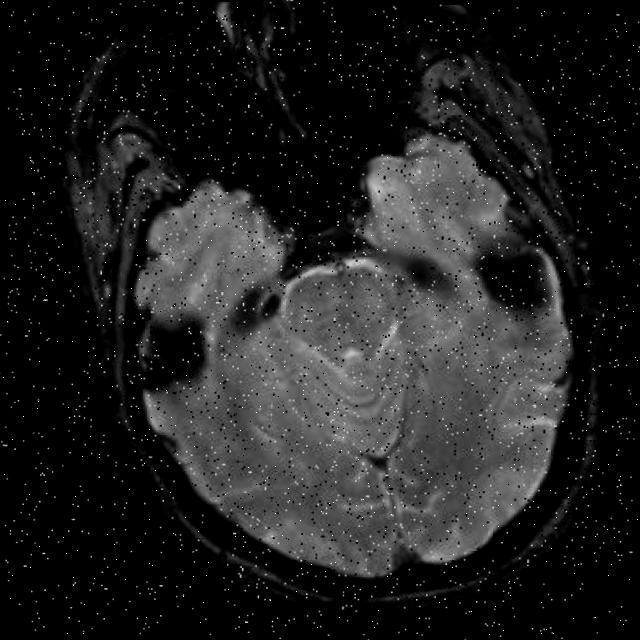EMCI: (452, 222, 592, 340), (120, 272, 226, 394), (363, 226, 455, 318), (238, 276, 282, 336)
